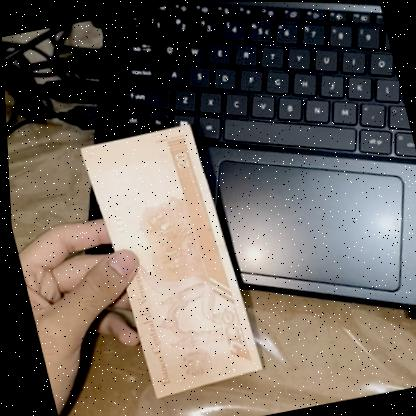twenty-back-vef: (74, 119, 261, 403)
